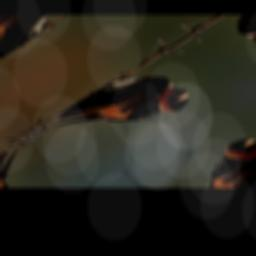Swallow: (43, 58, 201, 161)
